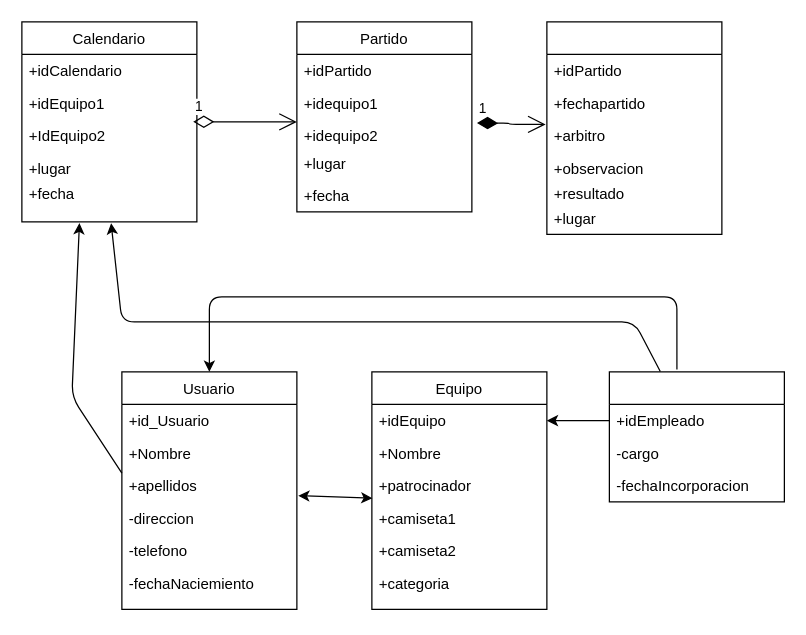
This 806x635 diagram has some shape labels left out. The shapes that lost their labels are listed below. From the top down, each one's box as (x1, y1, x2, y2) in pixels, then its label:
(546, 21, 722, 234): Registro partidos
(608, 371, 784, 502): Federacion
